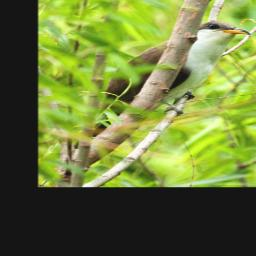Cuckoo: (61, 20, 256, 150)
